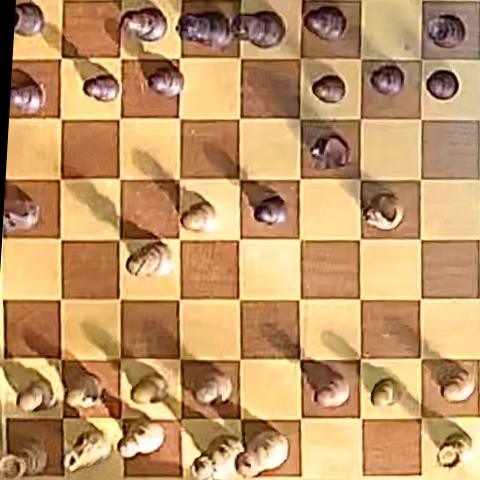black-bishop: (120, 7, 168, 43), (304, 5, 347, 40)
black-king: (178, 11, 234, 49)
black-knight: (310, 134, 350, 168), (4, 201, 40, 234)
black-pawn: (11, 79, 47, 113), (369, 64, 405, 96), (148, 66, 184, 97), (84, 75, 120, 102), (255, 196, 287, 226), (426, 70, 459, 99), (312, 75, 346, 103)
black-queen: (229, 11, 285, 48)
black-rook: (426, 14, 466, 48), (14, 2, 44, 36)
white-bishop: (119, 420, 164, 458), (127, 242, 172, 276)
white-king: (238, 430, 289, 478)
white-knight: (62, 429, 113, 475), (363, 193, 403, 230)
white-pawn: (64, 376, 105, 411), (17, 380, 56, 413), (131, 373, 168, 405), (193, 376, 232, 405), (180, 200, 216, 231), (312, 378, 349, 407), (442, 372, 476, 402), (371, 378, 401, 407)
white-queen: (191, 434, 242, 480)
white-rook: (1, 441, 46, 478), (437, 434, 472, 469)
